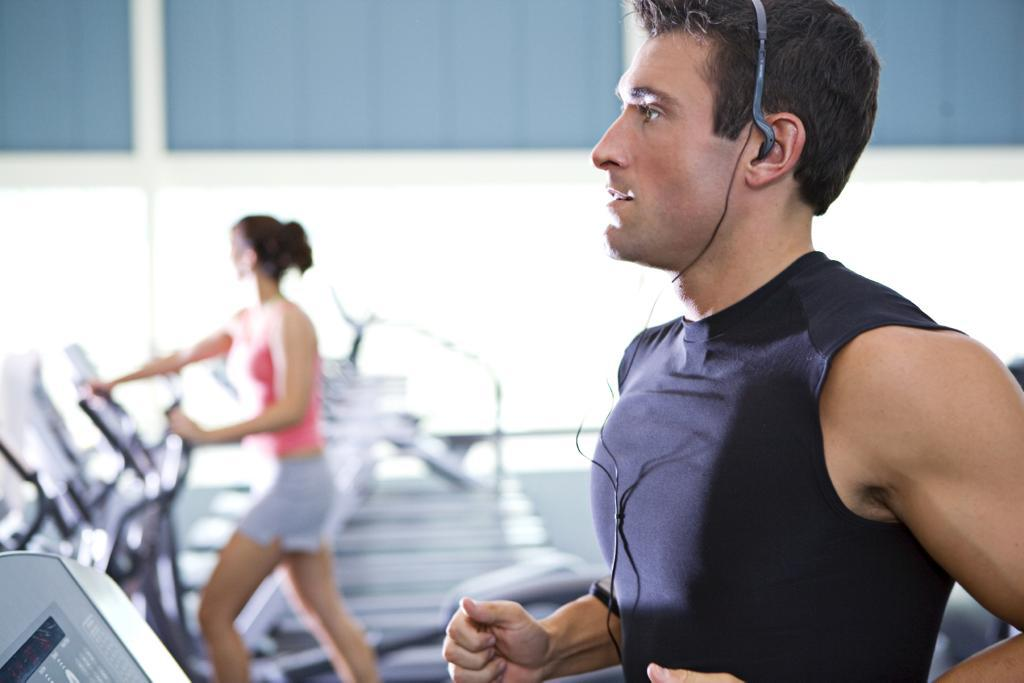face: (593, 39, 735, 255)
